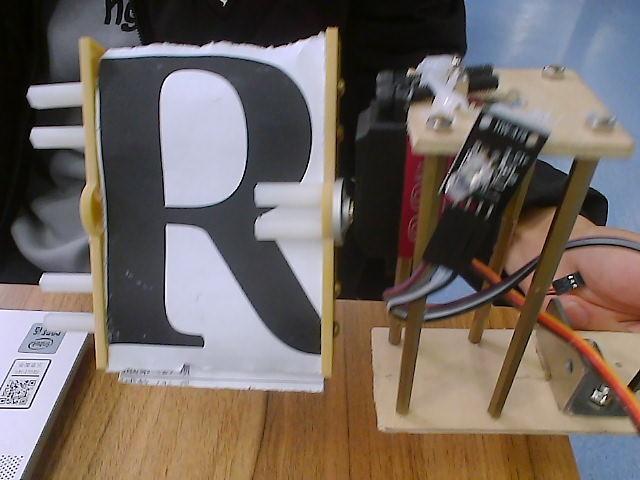R: (19, 21, 392, 448)
